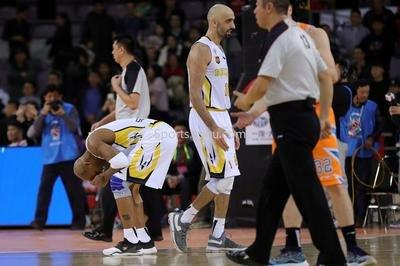bending: (71, 114, 180, 257)
up: (245, 6, 343, 266), (180, 3, 251, 252), (32, 87, 85, 228)
